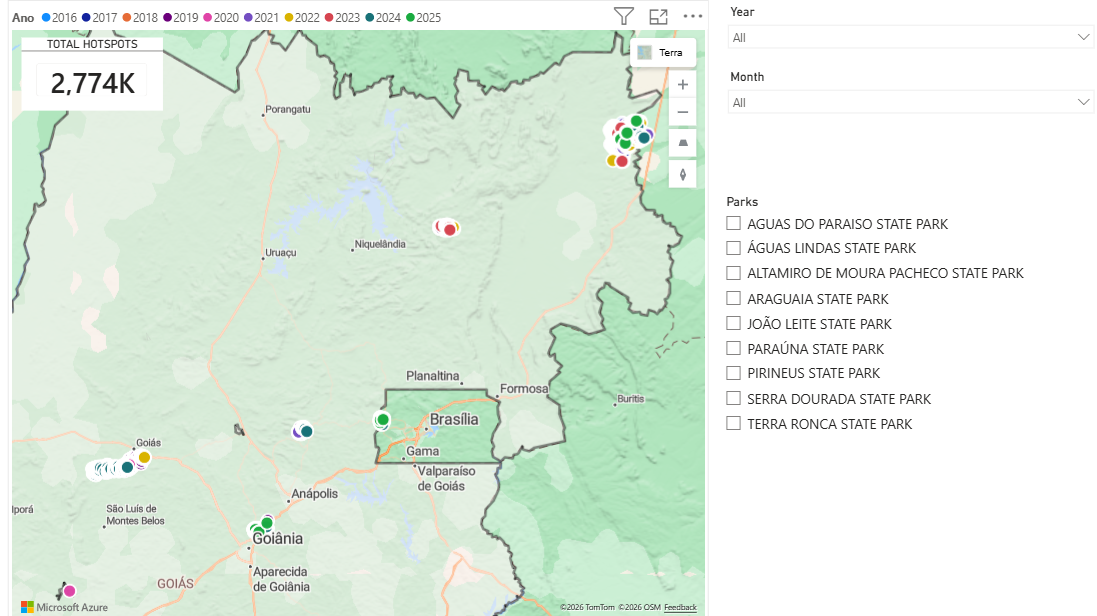

The dashboard page shown, as its layout file describes it:
{"tool":"powerbi","page":{"name":"Hotspots","canvas":[1280,720],"ordinal":1},"visuals":[{"type":"azureMap","fields":{"Series":["focos_final_powerbi.Ano"],"X":["focos_final_powerbi.lon_pbi"],"Y":["focos_final_powerbi.lat_pbi"]},"box":[10,0,813.8,720],"z":0},{"type":"cardVisual","title":"TOTAL HOTSPOTS","fields":{"Data":["CountNonNull(focos_final_powerbi.Total Focos)"]},"box":[25.6,43,164,84.9],"z":1000},{"type":"slicer","fields":{"Values":["focos_final_powerbi.Ano"]},"box":[835,0,445,75],"z":2000},{"type":"slicer","fields":{"Values":["focos_final_powerbi.Parks_English"]},"box":[830,220,450,296],"z":3000},{"type":"slicer","fields":{"Values":["focos_final_powerbi.Month_English"]},"box":[835,75,445,75],"z":4000}]}

Visuals, with their boxes in screenshot pixels (x1, y1, x2, y2), scaled from the page's 1280x720 canvas onto the 1097x616 screenshot:
azureMap - focos_final_powerbi.Ano x focos_final_powerbi.lon_pbi: rect(9, 0, 706, 615)
"TOTAL HOTSPOTS" cardVisual: rect(22, 37, 162, 109)
slicer - focos_final_powerbi.Ano: rect(716, 0, 1096, 64)
slicer - focos_final_powerbi.Parks_English: rect(711, 188, 1096, 441)
slicer - focos_final_powerbi.Month_English: rect(716, 64, 1096, 128)
